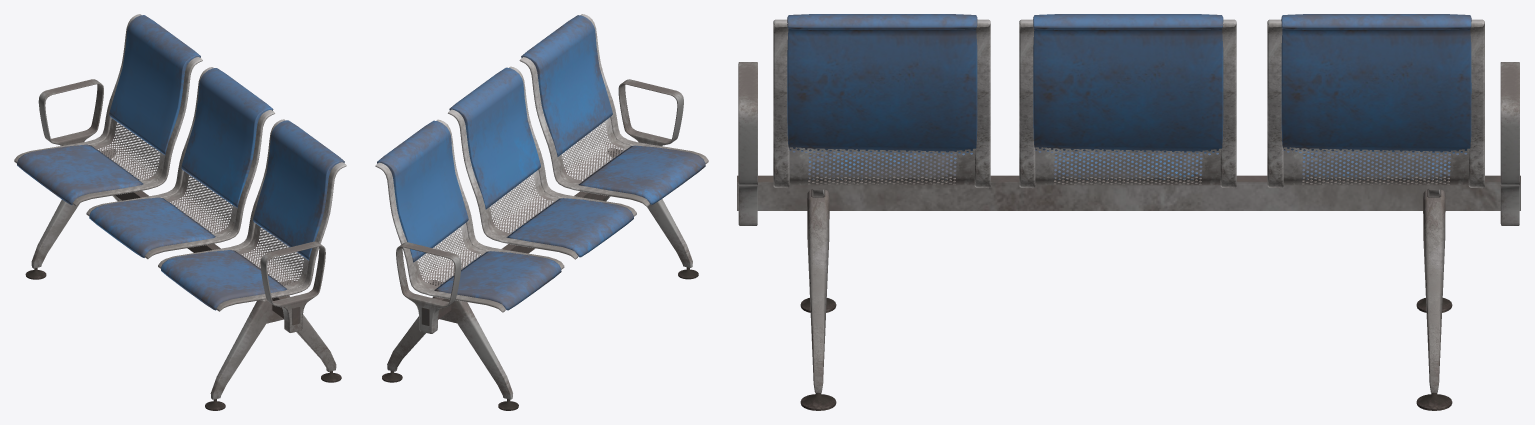
File: chair2.dae
The picture shows the model from 3 angles, left to right: view 1: azimuth 30°, elevation 25°; view 2: azimuth 150°, elevation 25°; view 3: azimuth 270°, elevation 25°; orthographic projection. The views are drawn at different scales.
Parts seen in each view (by area): view 1: polySurface337; view 2: polySurface337; view 3: polySurface337.
Boxes of the visible parts, x1,y1,x2,y2 form: polySurface337: [14, 14, 346, 410]; polySurface337: [375, 14, 708, 410]; polySurface337: [737, 14, 1520, 410].
Bounding box in the file's own units: 5.28 × 15.39 × 8.37.
Materials: 1 (1 with a texture image).
